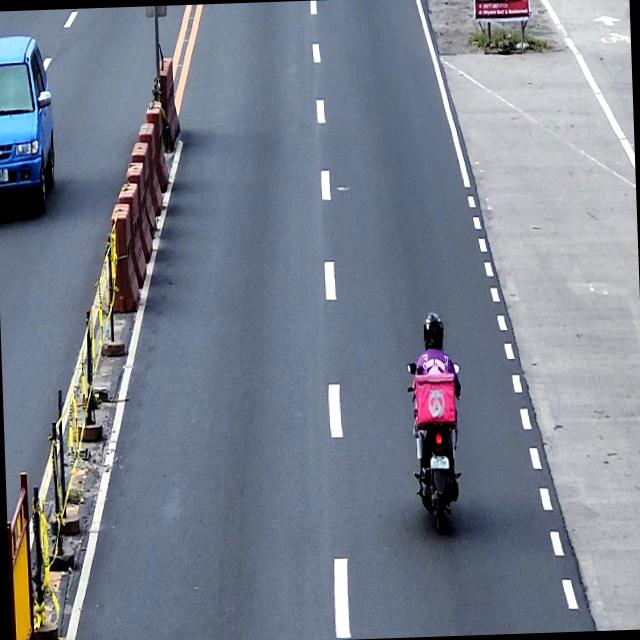Car: (0, 31, 57, 211)
License-Plate: (428, 453, 449, 470), (0, 167, 9, 183)
Motorcycle: (405, 358, 466, 535)
